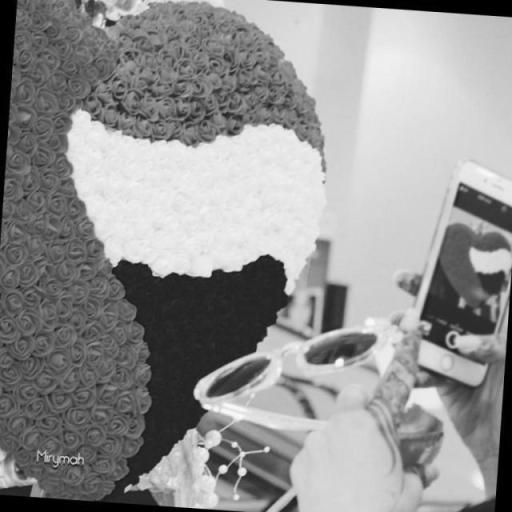phone: (417, 162, 511, 386)
